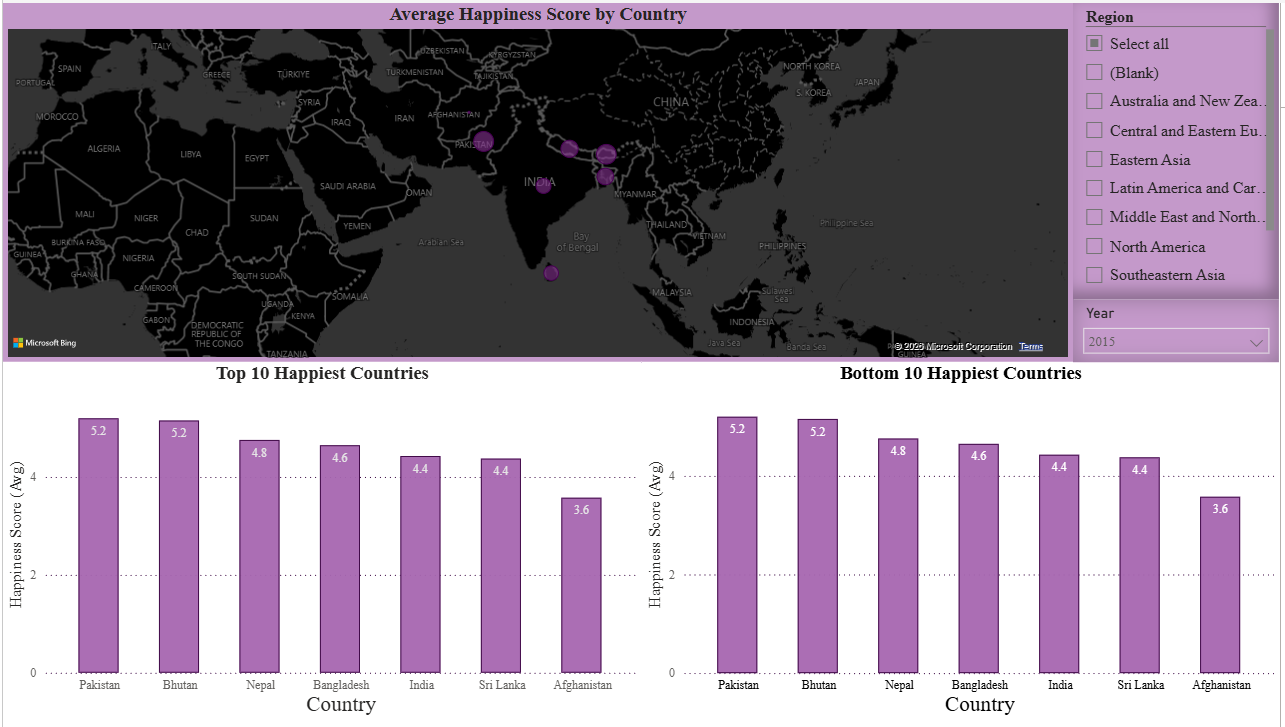

This screenshot's page, from the dashboard's own definition file:
{"tool":"powerbi","page":{"name":"Global Overview","canvas":[1280,720],"ordinal":0},"visuals":[{"type":"map","title":"Average Happiness Score by Country","fields":{"Category":["happiness_all_years.Country"],"Size":["Avg(happiness_all_years.Happiness Score)"]},"box":[0,0,1072.5,360],"z":0},{"type":"clusteredColumnChart","title":"Top 10 Happiest Countries","fields":{"Category":["happiness_all_years.Country"],"Y":["Avg(happiness_all_years.Happiness Score)"]},"box":[0,360,640,360],"z":1000},{"type":"clusteredColumnChart","title":"Bottom 10 Happiest Countries","fields":{"Category":["happiness_all_years.Country"],"Y":["Avg(happiness_all_years.Happiness Score)"]},"box":[640,360,640,360],"z":2000},{"type":"slicer","fields":{"Values":["happiness_all_years.Year"]},"box":[1073.3,296.7,206.7,63.3],"z":3000},{"type":"slicer","fields":{"Values":["happiness_all_years.Region"]},"box":[1073.3,0,206.7,296.7],"z":4000}]}

Visuals, with their boxes in screenshot pixels (x1, y1, x2, y2), scaled from the page's 1280x720 canvas onto the 1285x727 screenshot:
"Average Happiness Score by Country" map: 0:0:1077:364
"Top 10 Happiest Countries" clusteredColumnChart: 0:364:642:726
"Bottom 10 Happiest Countries" clusteredColumnChart: 642:364:1284:726
slicer - happiness_all_years.Year: 1077:300:1284:364
slicer - happiness_all_years.Region: 1077:0:1284:300
